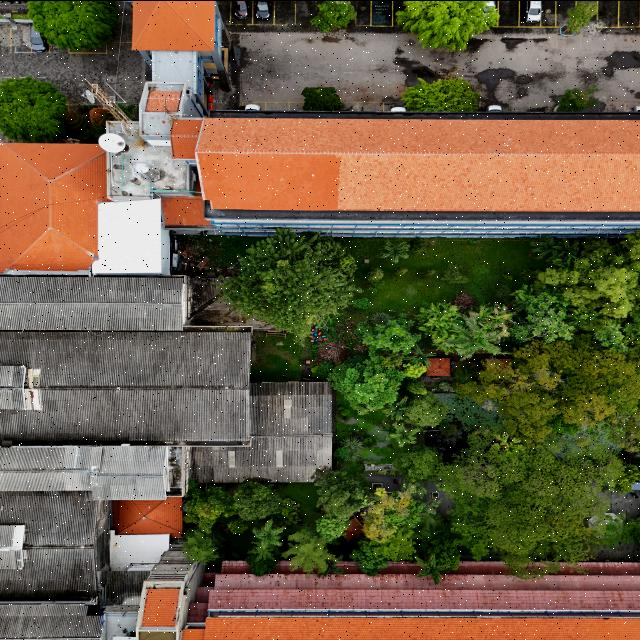Tree: (222, 230, 356, 340), (0, 78, 70, 138), (408, 552, 452, 585), (248, 516, 288, 550), (386, 422, 422, 448), (377, 238, 412, 262)
